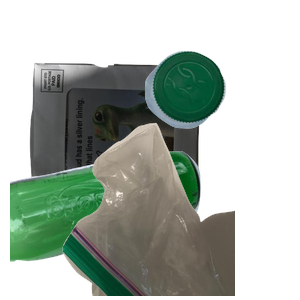glass: (10, 149, 203, 300)
paper: (27, 60, 223, 240)
plastic: (142, 48, 300, 169)
trash: (60, 120, 300, 300)
